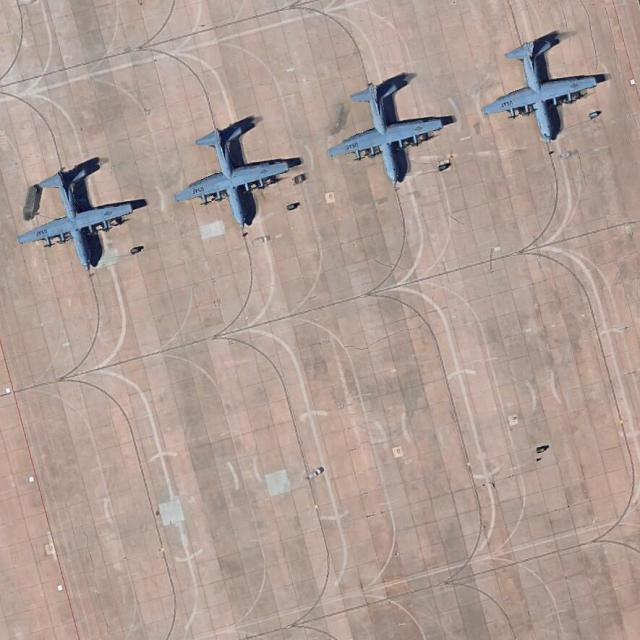fighter jet: (326, 76, 446, 195), (19, 168, 138, 272), (172, 124, 284, 230), (491, 40, 602, 142)
